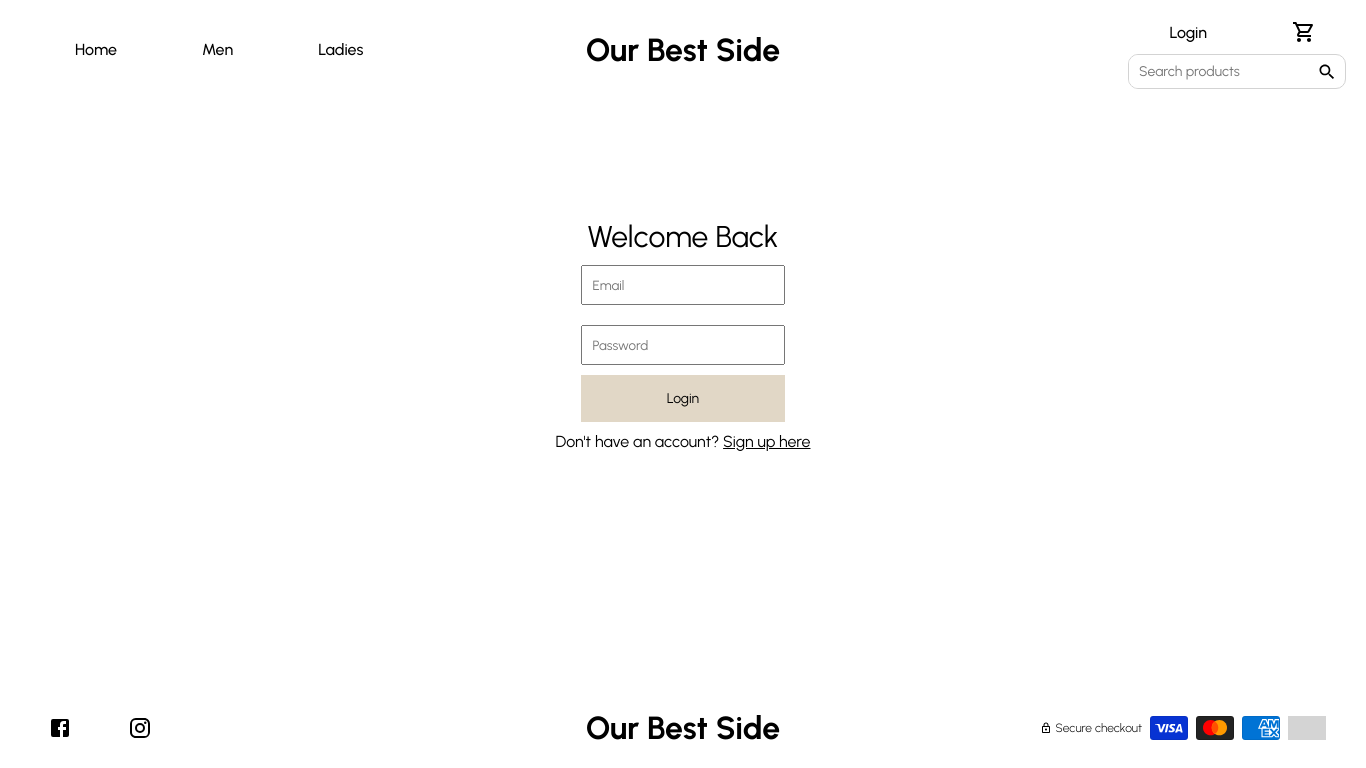
Test: Login › shows the message when there have been too many attempts
The width and height of the screenshot is (1366, 768).
In the field with placeholder "Email": (683, 285) [580,265,785,305], type "a@b.com"
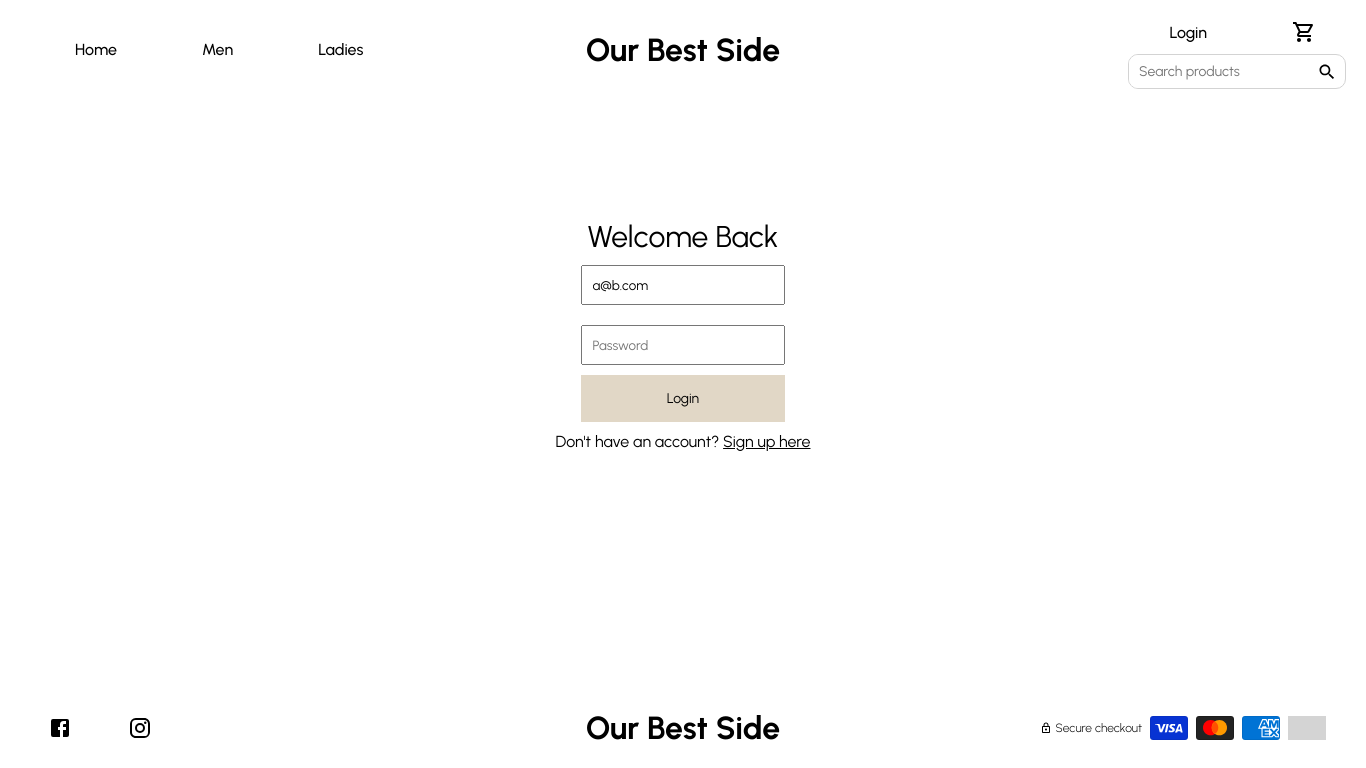
In the password field with placeholder "Password": (683, 345) [580,325,785,365], type "password123"
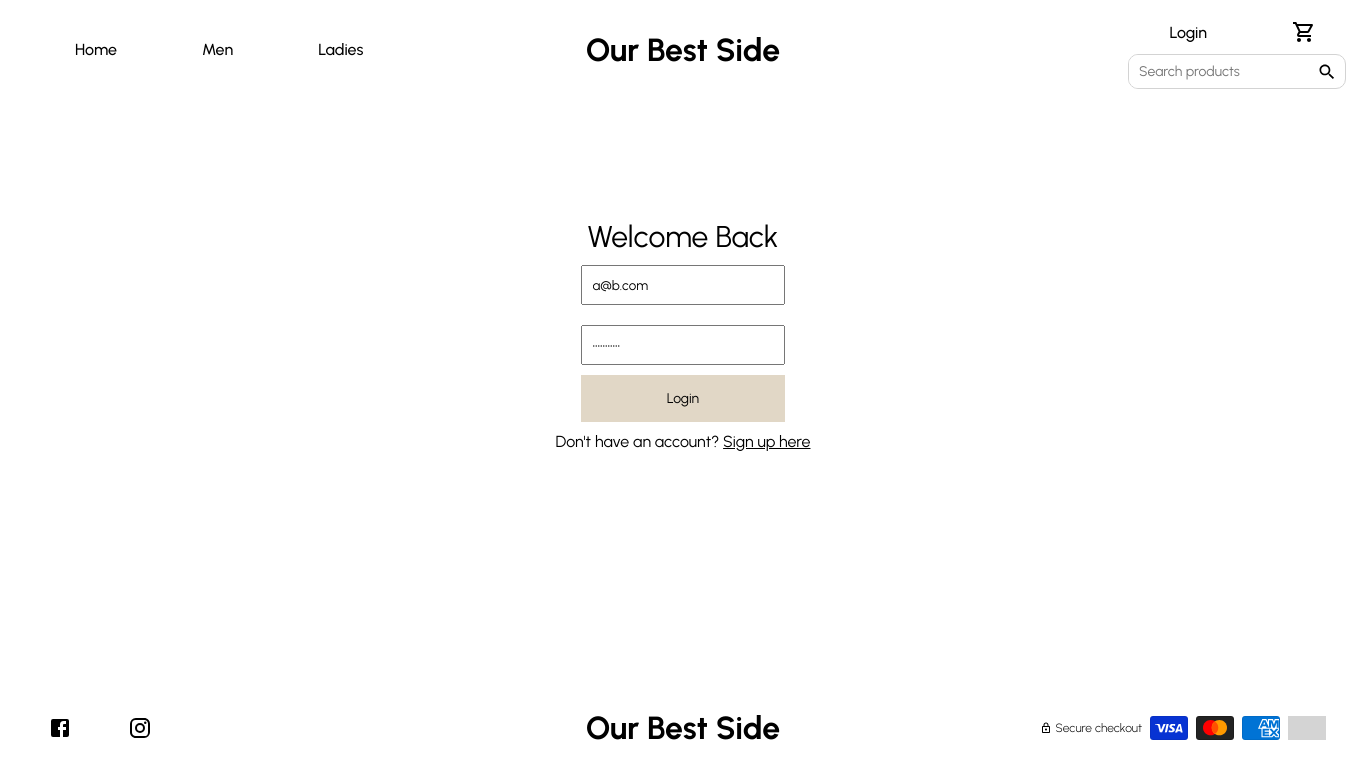
Click the button "Login": (683, 398) [580,375,785,422]
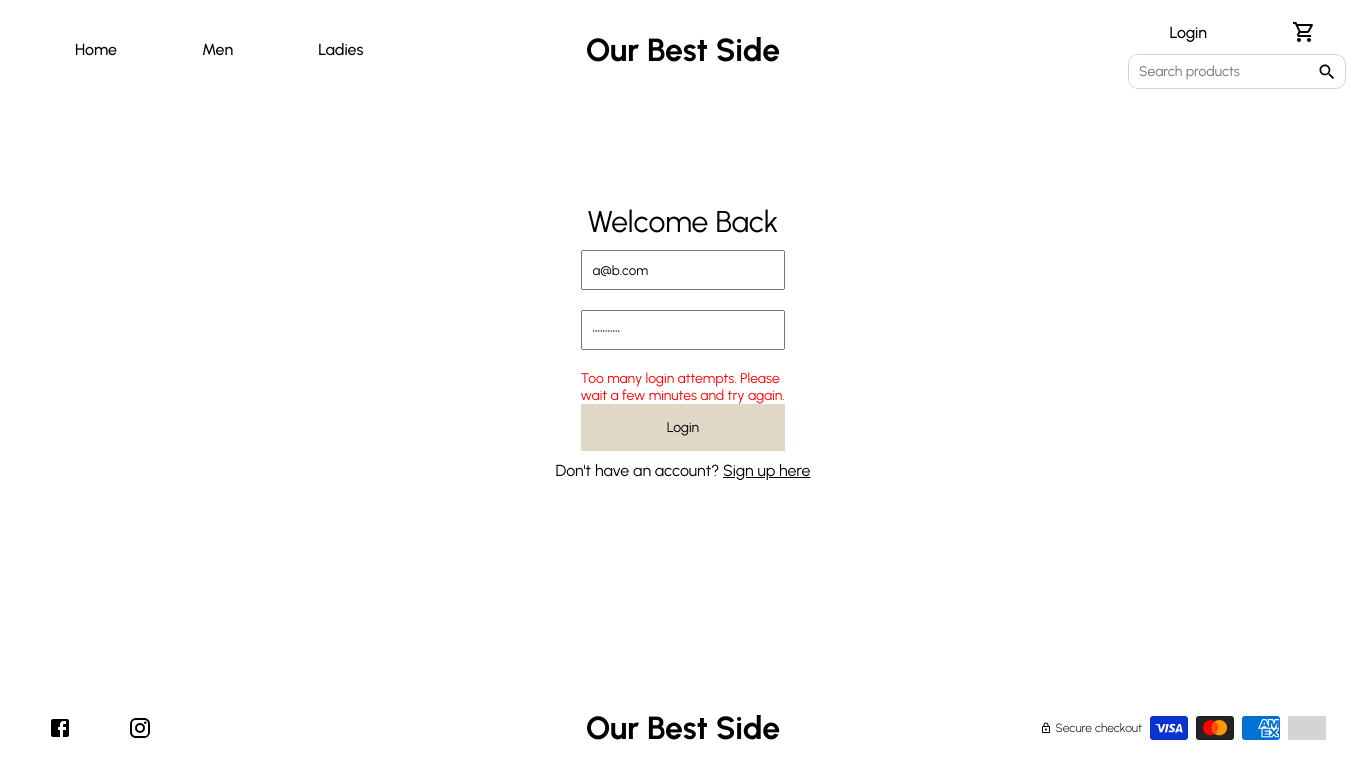
Expected: the button "Login" is enabled, [580,404,785,451]
Expected: the message shows "Too many login attempts", [580,370,785,404]
